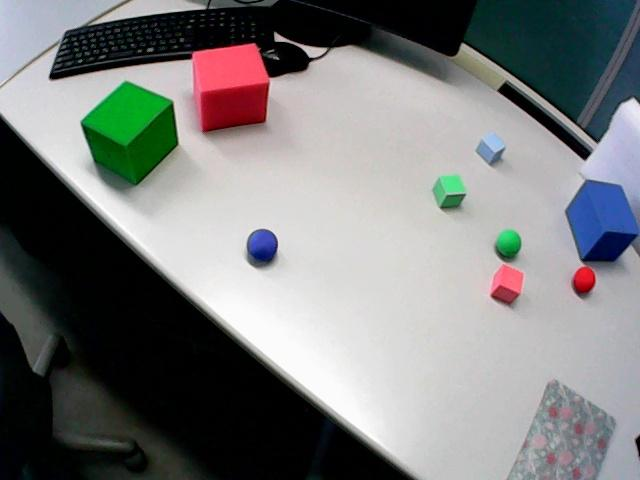blue_block: (566, 180, 638, 260), (476, 133, 505, 163)
red_block: (192, 44, 269, 130), (491, 265, 523, 303)
